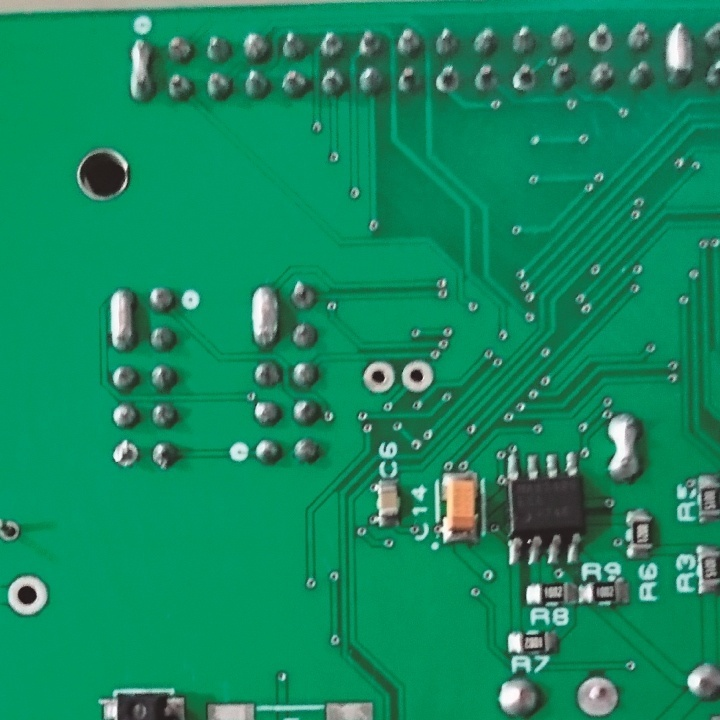F: (572, 671, 626, 720), (1, 574, 53, 618), (401, 356, 438, 392), (361, 360, 397, 395), (432, 66, 463, 98), (109, 436, 141, 466), (587, 22, 616, 54), (510, 63, 536, 92), (1, 520, 27, 544)
P: (601, 409, 646, 488), (247, 280, 282, 347), (661, 23, 696, 82), (127, 35, 156, 105), (109, 283, 136, 353)
